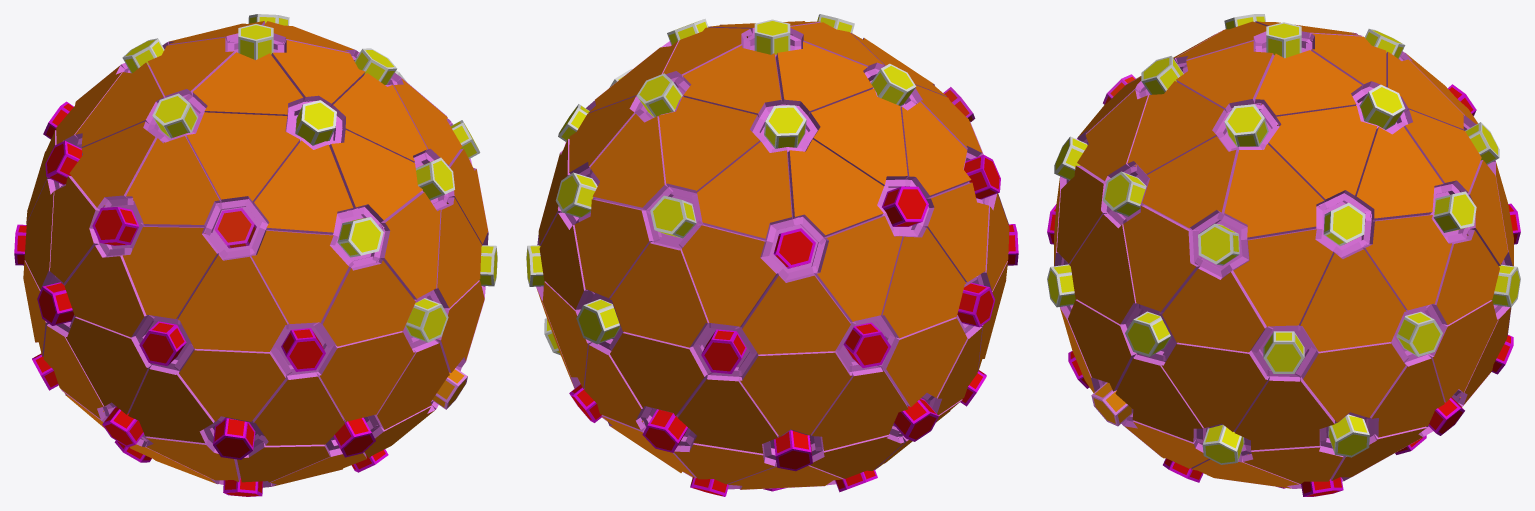
Rendered from Sphere_LowRes_v01.FBX.
3 views of the same model, side by side, from view 1: azimuth 30°, elevation 25°; view 2: azimuth 150°, elevation 25°; view 3: azimuth 270°, elevation 25° (orthographic).
Parts seen in each view (by area): view 1: GEARS; view 2: GEARS; view 3: GEARS.
Part boxes in pixels (box(x1,y1,x2,y2)): GEARS: box(14, 14, 497, 496); GEARS: box(526, 14, 1018, 496); GEARS: box(1047, 14, 1520, 496).
Size of the model in its own units: 14.76 by 15.09 by 14.42.
